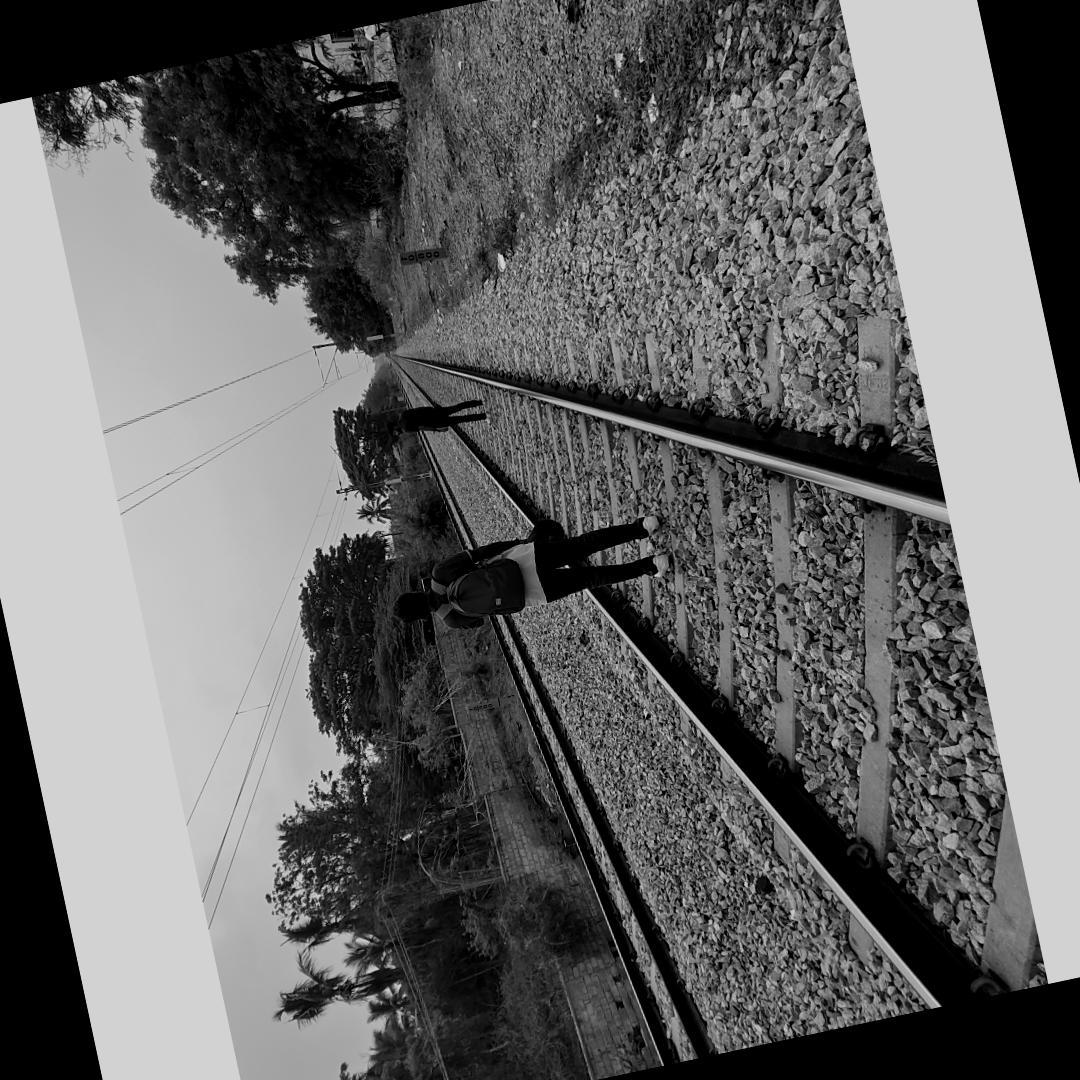standing: (392, 511, 675, 634), (386, 397, 490, 438)
track: (388, 352, 1048, 1012)
